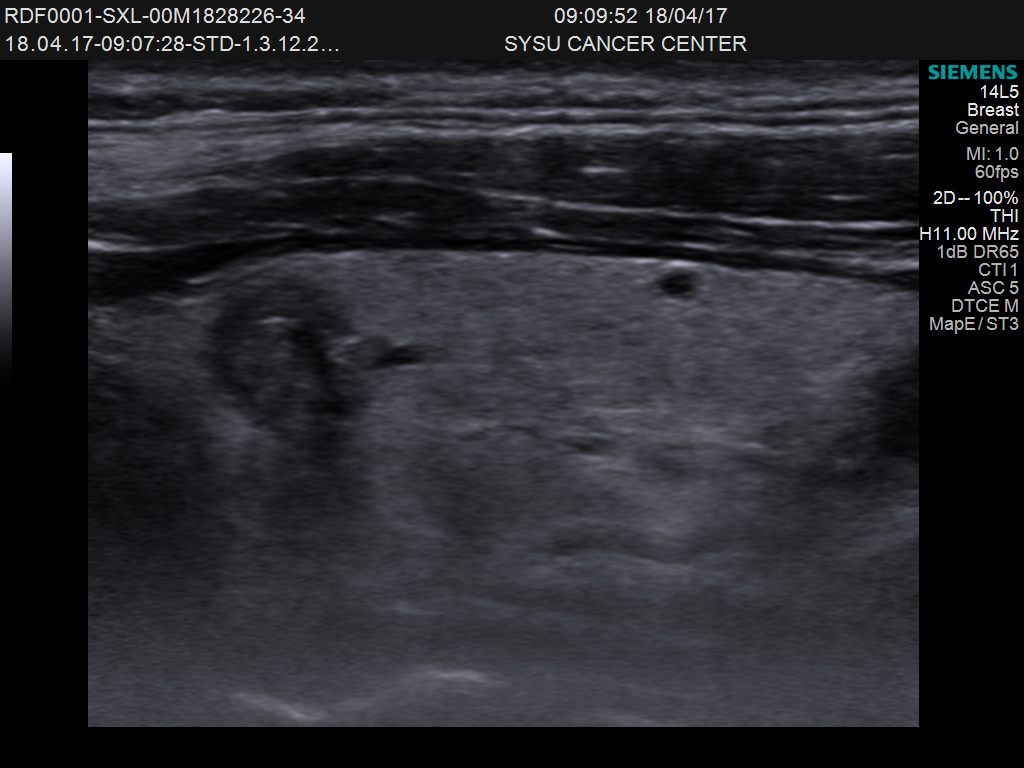Thyroid_tumor: (191, 257, 406, 465)
